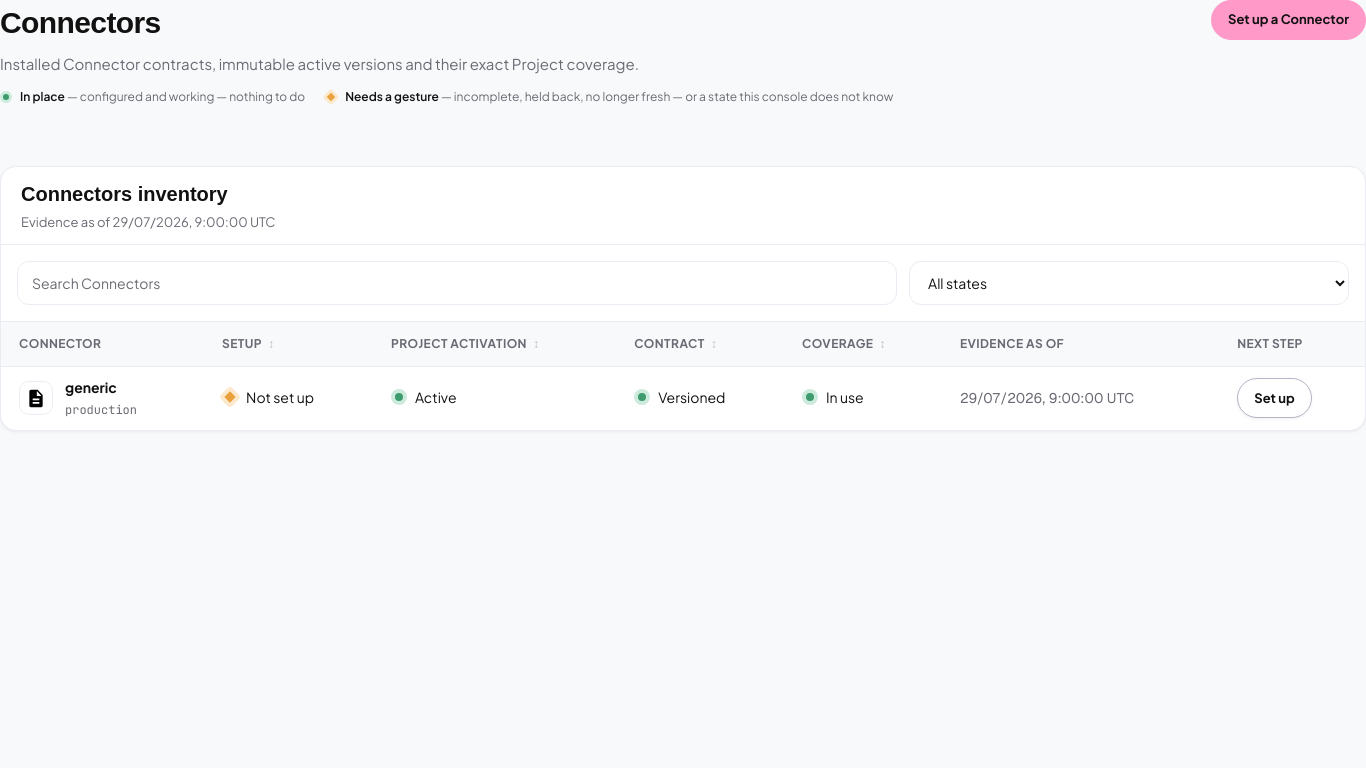
registers the installation against the installation route, with an idempotency key
What coordinates should you click on to do the following:
click the button "Set up"
I would click on:
 (1274, 398)
Its box is [1237,378,1312,418].
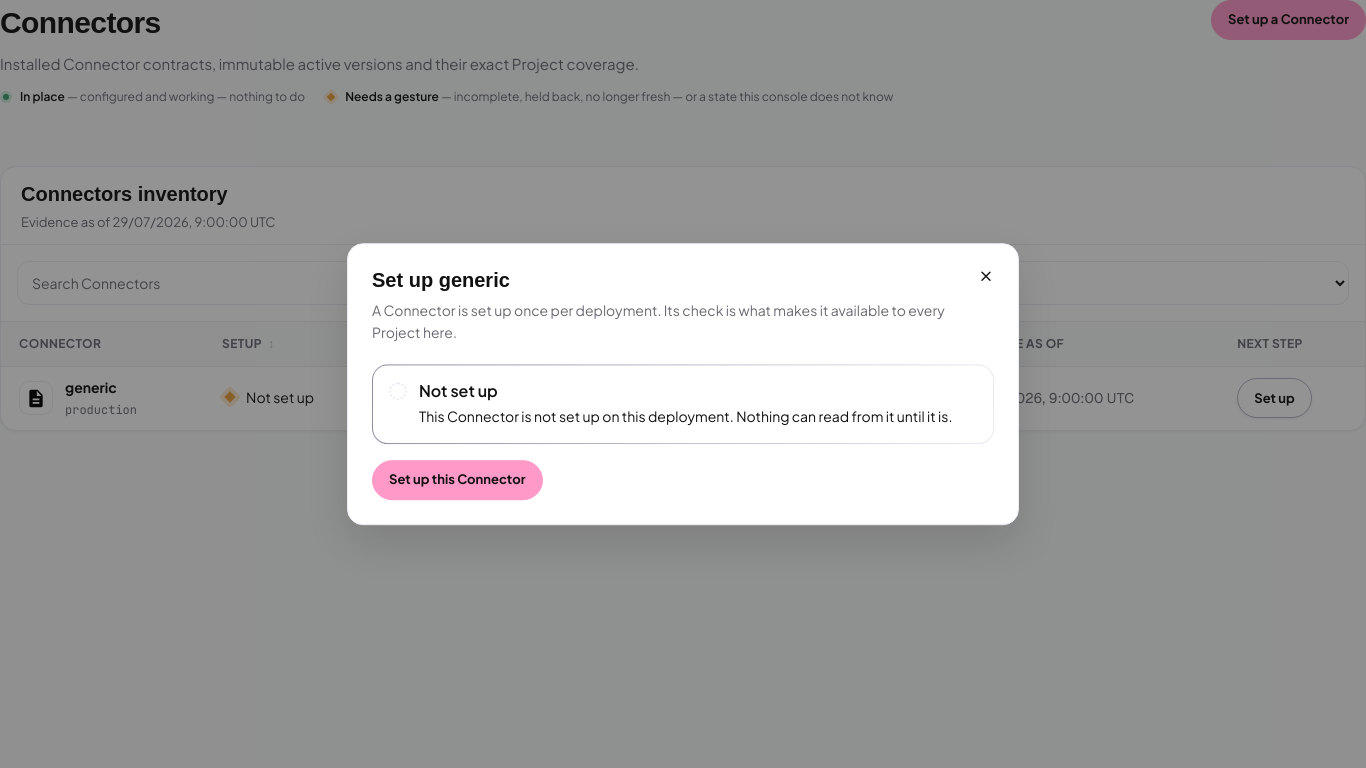
What coordinates should you click on to do the following:
click the button "Set up this Connector"
I would click on:
 (457, 480)
Its box is [372,460,542,500].
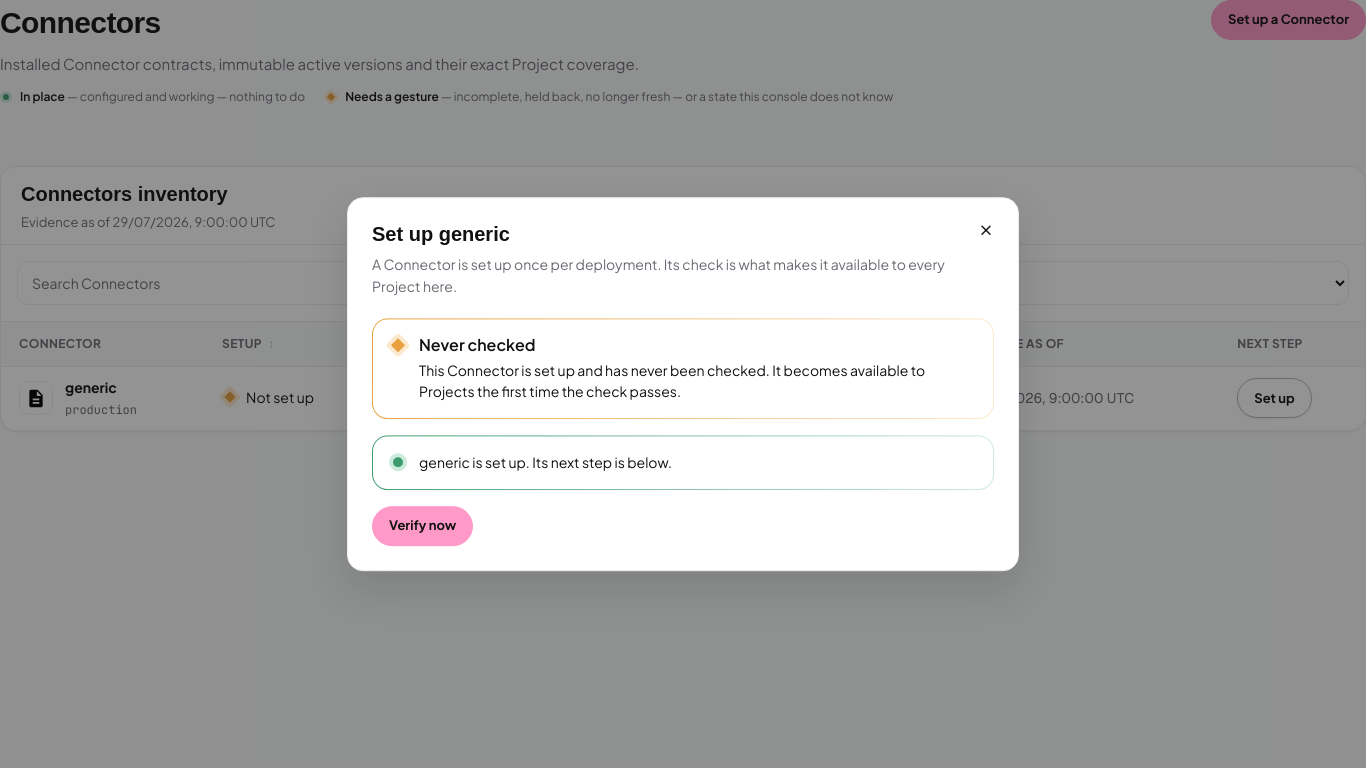
Expected: the button "Verify now" is shown, [372,506,473,546]
